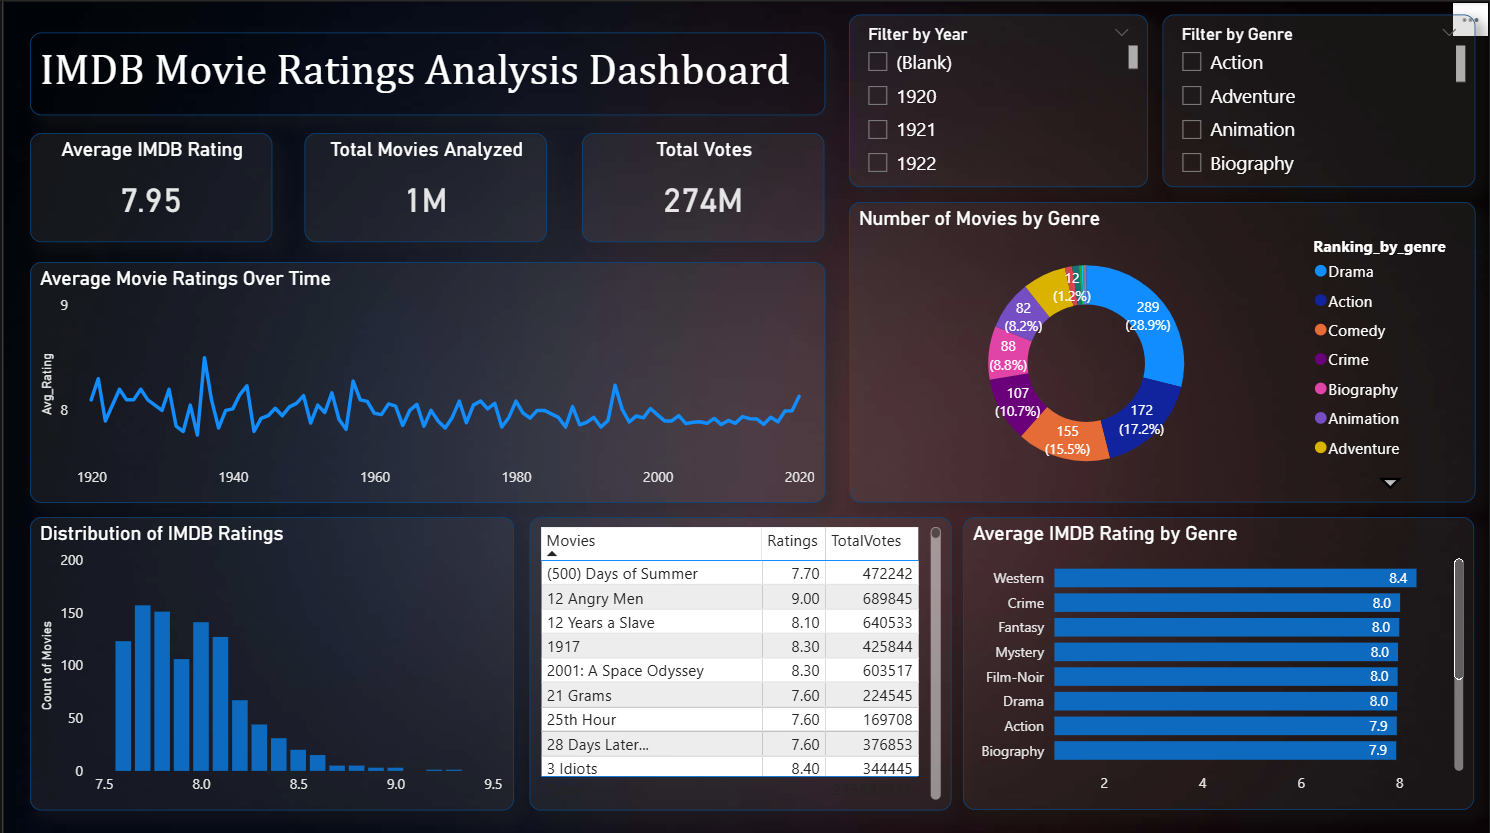

This screenshot's page, from the dashboard's own definition file:
{"tool":"powerbi","page":{"name":"Page 1","canvas":[1280,720],"ordinal":0},"visuals":[{"type":"image","box":[0,0,1279.5,719.2],"z":0},{"type":"clusteredColumnChart","title":"Distribution of IMDB Ratings","fields":{"Category":["movies_Data.Ratings"],"Y":["CountNonNull(movies_Data.Movies)"]},"box":[22.7,443.7,416.4,252.9],"z":1000},{"type":"tableEx","title":"Distribution of IMDB Ratings","fields":{"Values":["movies_Data.Movies","movies_Data.Ratings","movies_Data.TotalVotes"]},"box":[452.7,443.7,363.4,252.9],"z":2000},{"type":"card","title":"Average IMDB Rating","fields":{"Values":["Avg(movies_Data.Ratings)"]},"box":[22.7,113.6,209,93.9],"z":3000},{"type":"card","title":"Total Movies Analyzed","fields":{"Values":["Sum(movies_Data.Count_of_Movies)"]},"box":[258.9,113.6,209,93.9],"z":4000},{"type":"card","title":"Total Votes","fields":{"Values":["Sum(movies_Data.Votes)"]},"box":[498.2,113.6,209,93.9],"z":5000},{"type":"clusteredBarChart","title":"Average IMDB Rating by Genre","fields":{"Category":["movies_Data.Ranking_by_genre"],"Y":["movies_Data.Avg_Rating"]},"box":[826.4,444.2,440.3,251.8],"z":6000},{"type":"donutChart","title":"Number of Movies by Genre","fields":{"Category":["movies_Data.Ranking_by_genre"],"Y":["CountNonNull(movies_Data.Count_of_Movies)"]},"box":[728.3,172.6,539.1,258.9],"z":7000},{"type":"lineChart","title":"Average Movie Ratings Over Time","fields":{"Category":["movies_Data.Year"],"Y":["movies_Data.Avg_Rating"]},"box":[22.7,224.1,684.4,207.4],"z":8000},{"type":"slicer","title":"Average Movie Ratings Over Time","fields":{"Values":["movies_Data.Ranking_by_genre"]},"box":[997.9,12.1,269.5,148.4],"z":9000},{"type":"slicer","title":"Average Movie Ratings Over Time","fields":{"Values":["movies_Data.Year"]},"box":[728.3,12.1,257.4,148.4],"z":10000},{"type":"textbox","box":[22.7,27.3,684.4,71.2],"z":11000}]}

Visuals, with their boxes in screenshot pixels (x1, y1, x2, y2), scaled from the page's 1280x720 canvas onto the 1490x833 screenshot:
image: 0 0 1489 832
"Distribution of IMDB Ratings" clusteredColumnChart: 26 513 511 806
"Distribution of IMDB Ratings" tableEx: 527 513 950 806
"Average IMDB Rating" card: 26 131 270 240
"Total Movies Analyzed" card: 301 131 545 240
"Total Votes" card: 580 131 823 240
"Average IMDB Rating by Genre" clusteredBarChart: 962 514 1475 805
"Number of Movies by Genre" donutChart: 848 200 1475 499
"Average Movie Ratings Over Time" lineChart: 26 259 823 499
"Average Movie Ratings Over Time" slicer: 1162 14 1475 186
"Average Movie Ratings Over Time" slicer: 848 14 1147 186
textbox: 26 32 823 114
